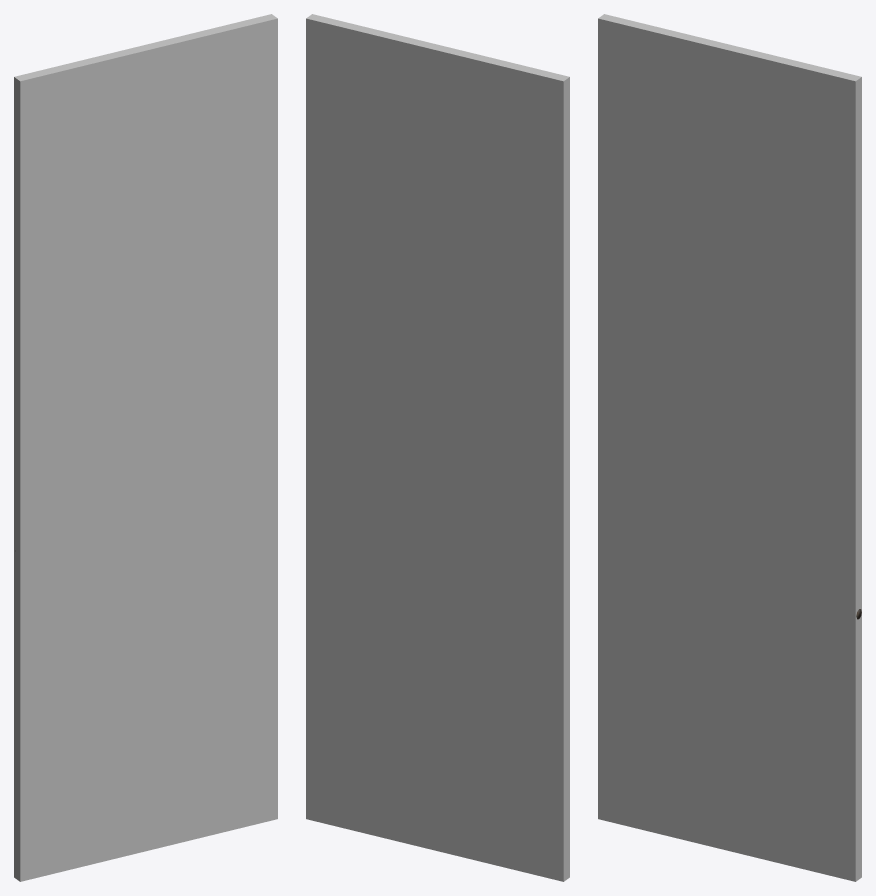
Rendered from pipes_03.DAE.
3 views of the same model, side by side, from view 1: azimuth 30°, elevation 25°; view 2: azimuth 150°, elevation 25°; view 3: azimuth 330°, elevation 25° (orthographic).
Visible parts, largest first — view 1: bounds; view 2: bounds; view 3: bounds.
Boxes of the visible parts, x1,y1,x2,y2 form: bounds: (14,14,277,881); bounds: (306,14,569,881); bounds: (598,14,861,881).
Bounding box in the file's own units: 474 × 19.62 × 1407.
